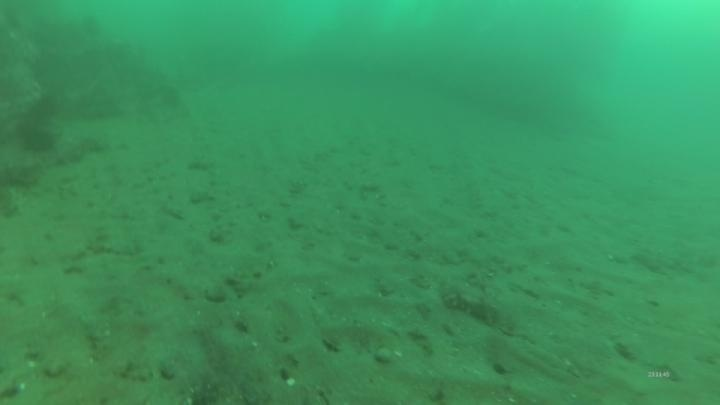holothurian: (440, 284, 518, 335)
